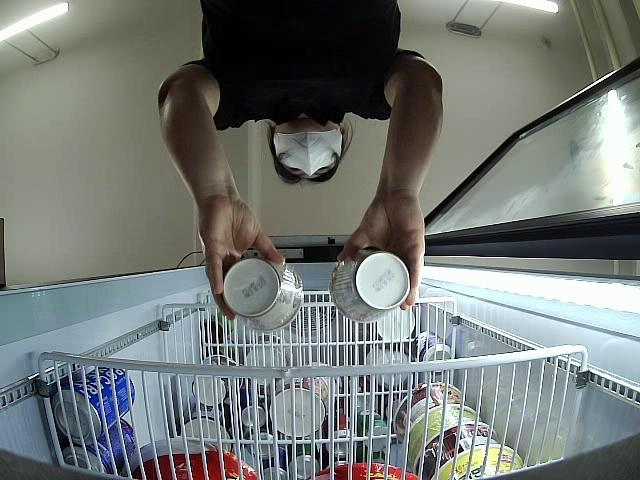00_hand: (197, 196, 285, 321), (336, 194, 425, 312)
04_chapagetti_S: (223, 254, 303, 331), (330, 251, 410, 321)
